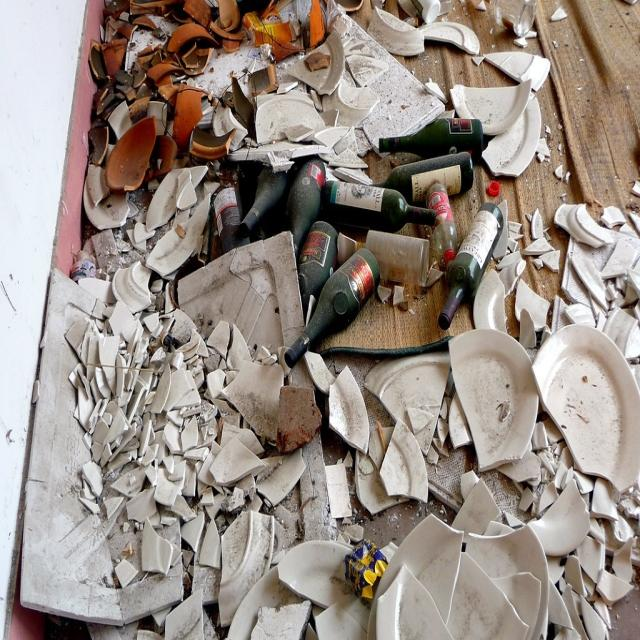Glass: (51, 7, 640, 639)
